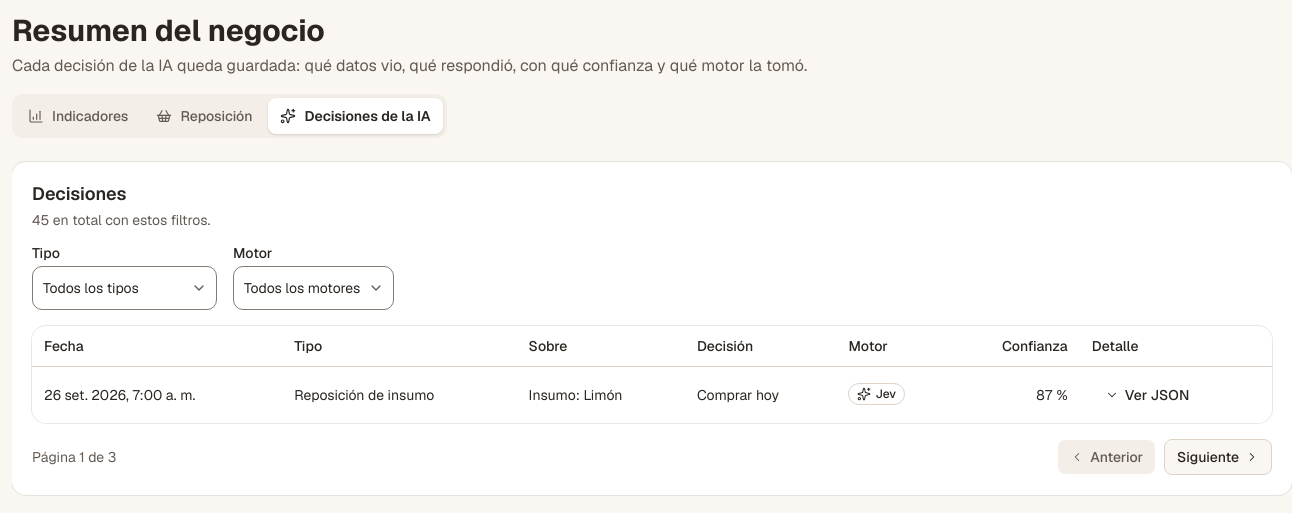
Test: AiAuditView › pagina de a 20 y volver a filtrar regresa a la primera página
Click the button "Siguiente" at (1218, 457), box [1164,439,1272,475]
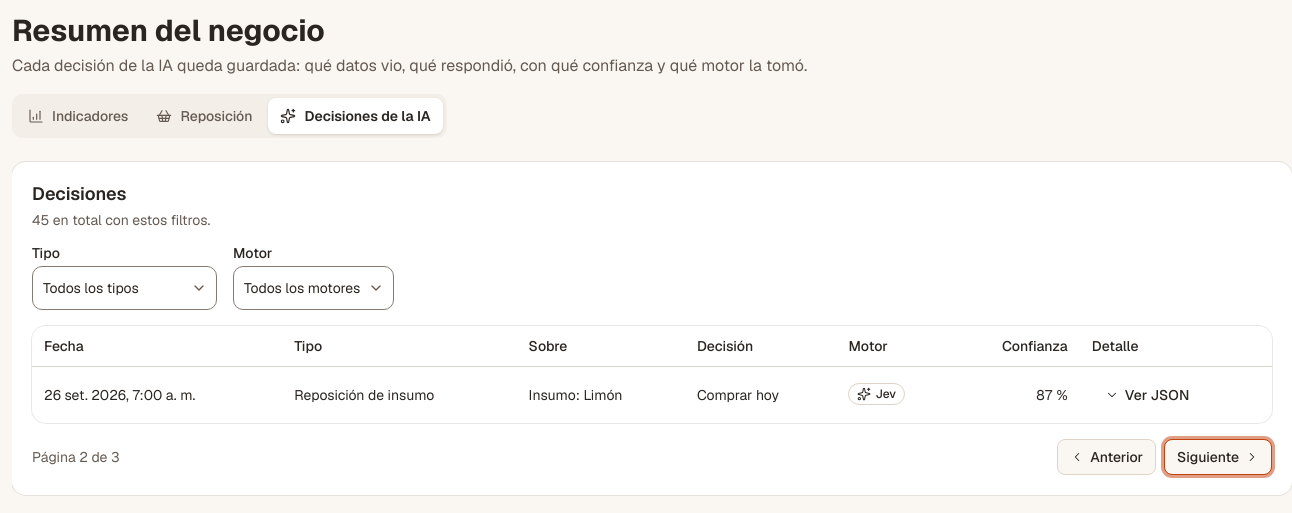
Now the text "Página 2 de 3" is shown, box [32,447,120,467]
Select "Jev (IA)" in the dropdown labelled "Motor" at (314, 288), box [233,266,394,310]
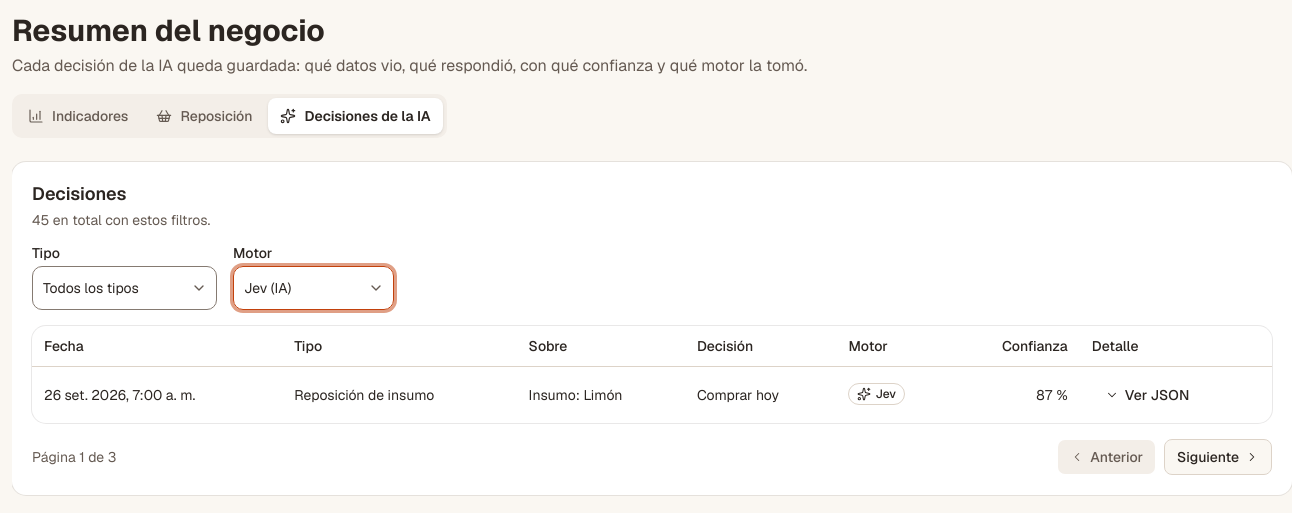
Now the text "Página 1 de 3" is shown, box [32,447,116,467]
